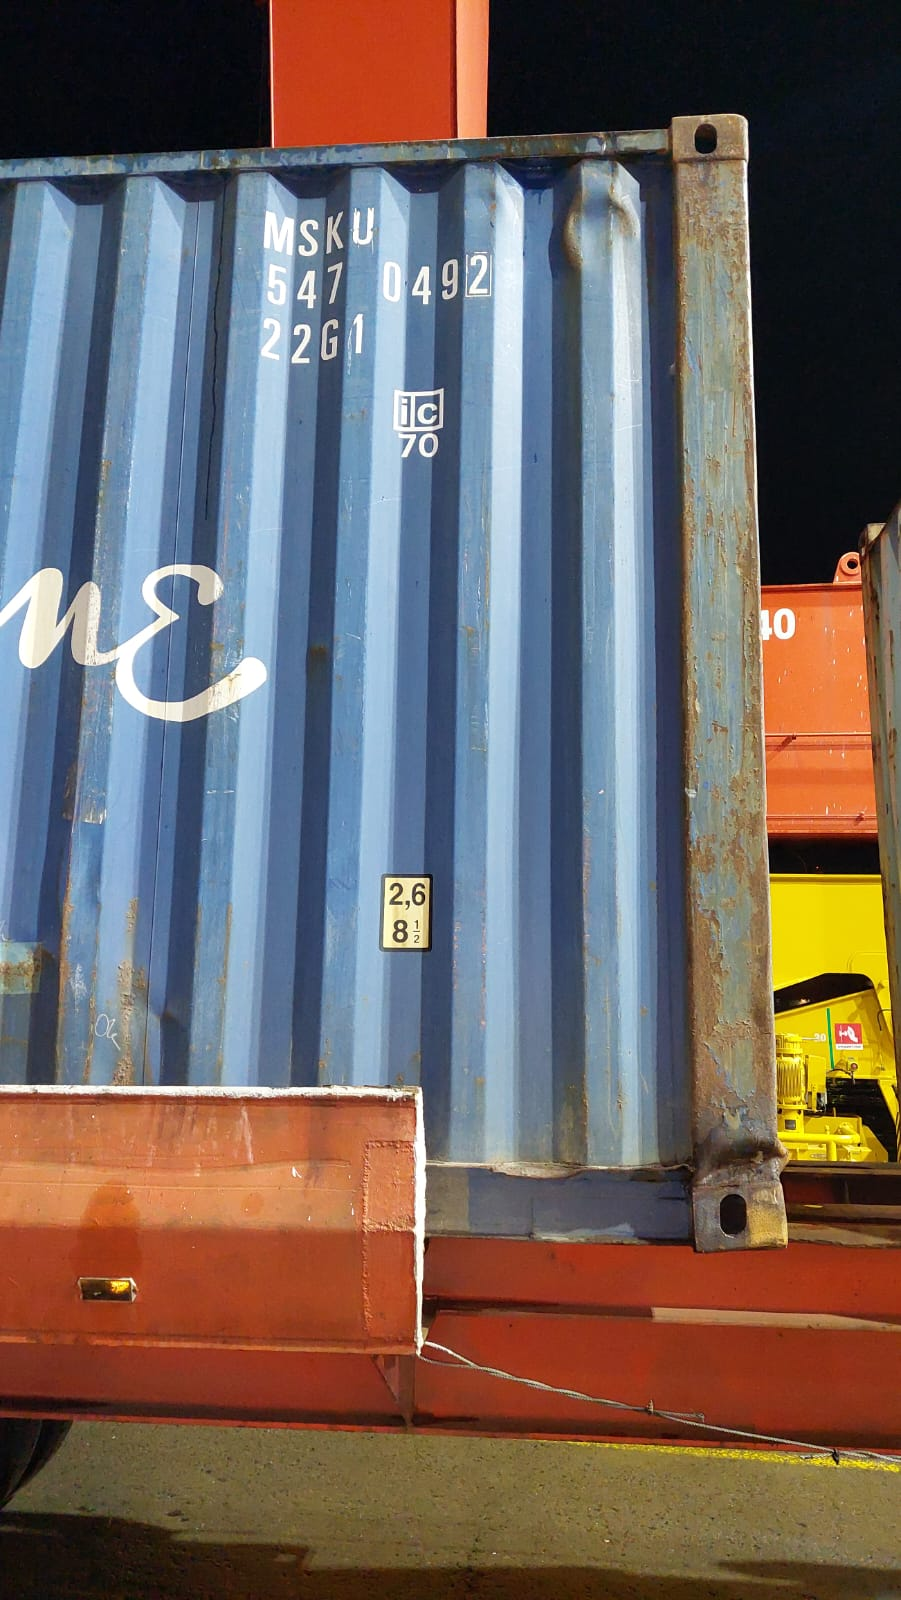bulged: (478, 135, 666, 332)
dented: (649, 1074, 827, 1251)
